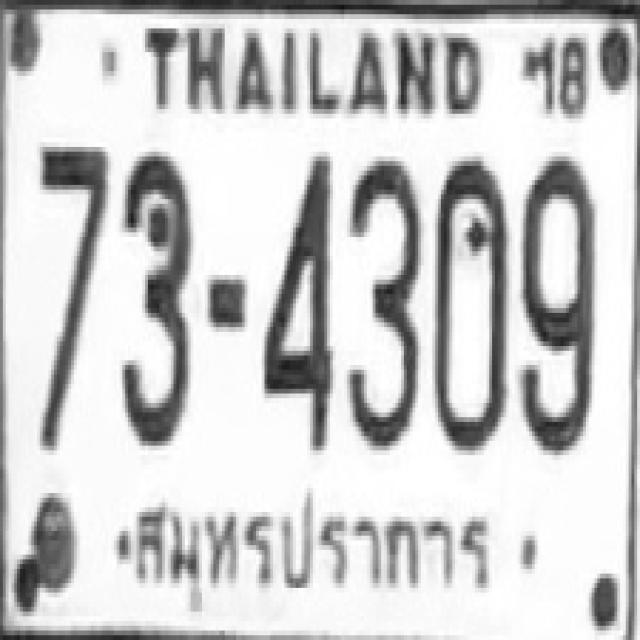0: (432, 157, 507, 450)
3: (116, 147, 190, 441), (346, 157, 420, 450)
4: (260, 152, 332, 446)
7: (36, 140, 106, 448)
9: (519, 149, 596, 453)
SamutPrakan: (126, 477, 502, 610)
